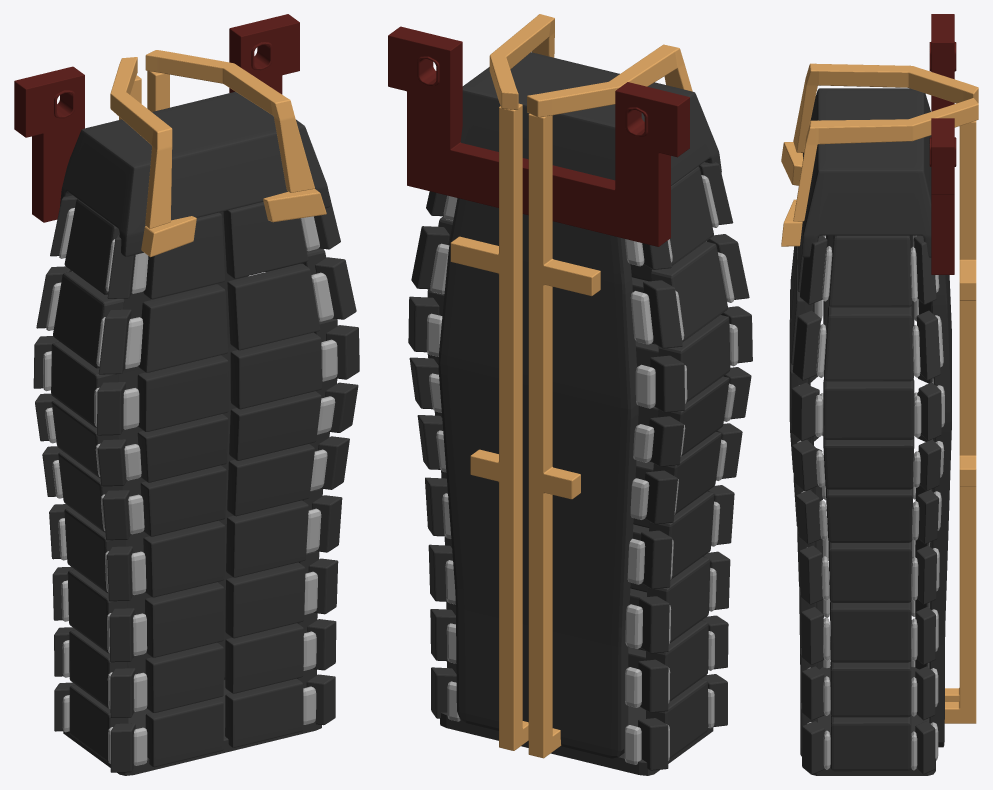
Rendered from eucm_prp_Door_004_IS.fbx.
3 renders of one model, left to right at view 1: azimuth 30°, elevation 25°; view 2: azimuth 150°, elevation 25°; view 3: azimuth 270°, elevation 25°, orthographic. The views are drawn at different scales.
Parts seen in each view (by area): view 1: door_opening, door_sidePlating, door_frontPieces, door_roof, door_Red, door_frontHinges_01, door_yellowLock_02, door_backPieces, door_back, door_yellowLock_01, door_backHinges_01, door_bottom (+2 smaller); view 2: door_back, door_yellowLock_03, door_Red, door_sidePlating, door_backPieces, door_roof, door_backHinges_02, door_frontPieces, door_yellowLock_02, door_frontHinges_02, door_opening, door_bottom (+1 smaller); view 3: door_sidePlating, door_roof, door_yellowLock_03, door_frontPieces, door_backPieces, door_yellowLock_02, door_Red, door_back, door_frontHinges_02, door_backHinges_01, door_opening, door_backHinges_02 (+2 smaller).
Part boxes in pixels (bbox=[...]): door_opening: bbox=[137, 201, 321, 767]; door_sidePlating: bbox=[51, 199, 337, 762]; door_frontPieces: bbox=[97, 191, 359, 772]; door_roof: bbox=[60, 91, 330, 256]; door_Red: bbox=[14, 14, 299, 222]; door_frontHinges_01: bbox=[123, 216, 337, 765]; door_yellowLock_02: bbox=[110, 50, 314, 228]; door_backPieces: bbox=[33, 195, 268, 731]; door_back: bbox=[118, 211, 248, 679]; door_yellowLock_01: bbox=[141, 189, 326, 257]; door_backHinges_01: bbox=[43, 208, 74, 732]; door_bottom: bbox=[63, 680, 321, 775]; door_back: bbox=[438, 198, 638, 758]; door_yellowLock_03: bbox=[450, 103, 600, 758]; door_Red: bbox=[388, 26, 689, 246]; door_sidePlating: bbox=[427, 166, 730, 758]; door_backPieces: bbox=[408, 191, 684, 770]; door_roof: bbox=[460, 52, 721, 185]; door_backHinges_02: bbox=[426, 195, 655, 764]; door_frontPieces: bbox=[698, 162, 752, 727]; door_yellowLock_02: bbox=[489, 14, 692, 117]; door_frontHinges_02: bbox=[701, 175, 738, 728]; door_opening: bbox=[628, 264, 658, 668]; door_bottom: bbox=[440, 706, 713, 775]; door_sidePlating: bbox=[823, 235, 914, 771]; door_roof: bbox=[801, 88, 931, 257]; door_yellowLock_03: bbox=[944, 121, 976, 723]; door_frontPieces: bbox=[791, 235, 827, 774]; door_backPieces: bbox=[914, 235, 941, 774]; door_yellowLock_02: bbox=[793, 63, 978, 221]; door_Red: bbox=[929, 14, 956, 274]; door_back: bbox=[929, 275, 951, 747]; door_frontHinges_02: bbox=[814, 235, 832, 769]; door_backHinges_01: bbox=[910, 235, 921, 770]; door_opening: bbox=[789, 221, 817, 756]; door_backHinges_02: bbox=[928, 275, 944, 760].
Bounding box in the file's own units: 106 × 240 × 66.3.
